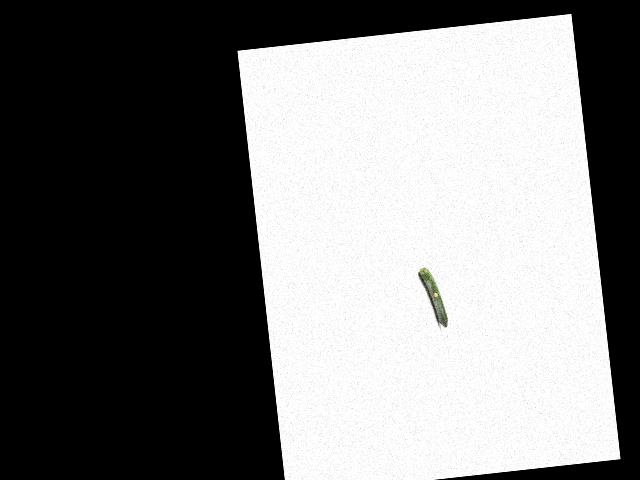cucumber: (418, 265, 448, 329)
